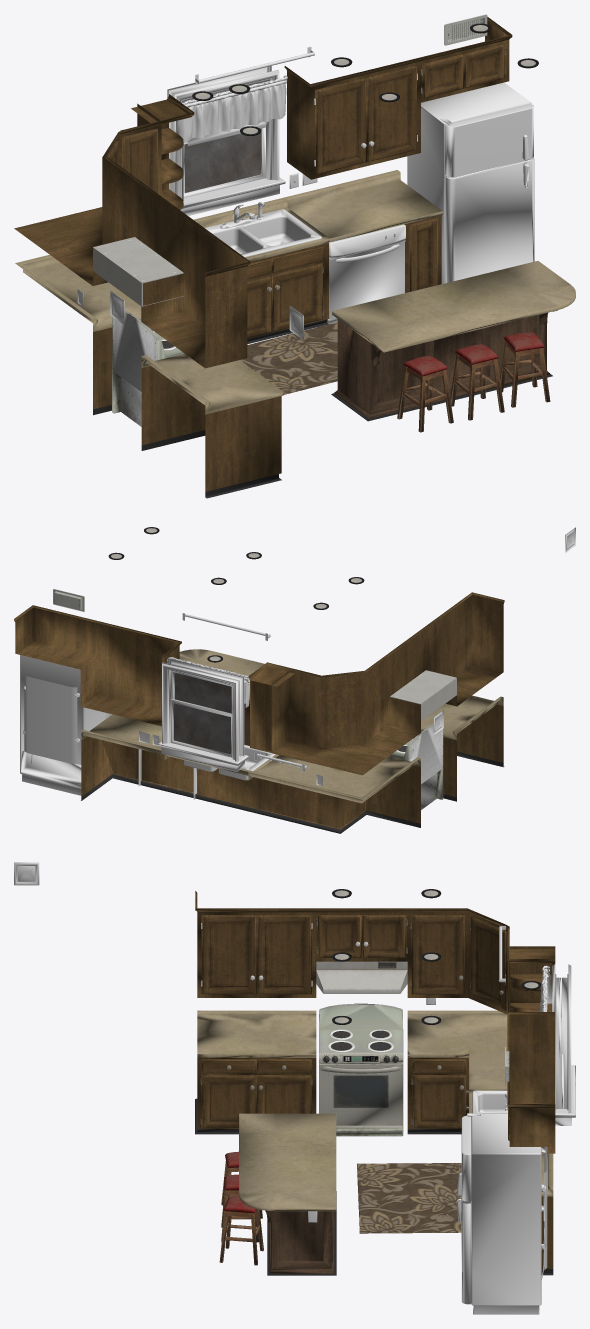
File: Kitchen.fbx
The picture shows the model from 3 angles, top to bottom: view 1: azimuth 30°, elevation 25°; view 2: azimuth 150°, elevation 25°; view 3: azimuth 270°, elevation 25°; orthographic projection. The views are drawn at different scales.
Parts seen in each view (by area): view 1: Kitchen-Wood-Furniture-Dark_0.1, Kitchen-Wood-Furniture-Dark_0.2, Kitchen-Wood-Furniture-Dark_0.1_0.1, Kitchen-Fridge-Exterior-Door_0.1, Kitchen-Windows_0.1, Kitchen-Sink_0.1, Kitchen-Prop-Bar-Stool_0.1, Kitchen-Fridge, Kitchen-Fridge-Exterior-Door_0.2, Kitchen-Floral-Rugs-Style-02_0.1, Kitchen-Windows_Small-Curtain_0.1, Kitchen-Stove_0.1 (+4 smaller); view 2: Kitchen-Wood-Furniture-Dark_0.1, Kitchen-Fridge, Kitchen-Windows_0.1, Kitchen-Stove_0.1, Kitchen-Rangehood_0.1, Kitchen-Wood-Furniture-Dark_0.2, Kitchen-Sink_0.1, Kitchen-Cell-Lamps_0.1, Kitchen-Cit-Ind-Metal-Beams-01-Painted-White_0.1, Ac-Vents-Panels_0.4, Kitchen-Stove-Tile-Deco_0.1; view 3: Kitchen-Wood-Furniture-Dark_0.1_0.1, Kitchen-Wood-Furniture-Dark_0.1, Kitchen-Wood-Furniture-Dark_0.2, Kitchen-Fridge, Kitchen-Floral-Rugs-Style-02_0.1, Kitchen-Stove_0.1, Kitchen-Stove_0.002, Kitchen-Rangehood_0.1, Kitchen-Windows_0.1, Kitchen-Prop-Bar-Stool_0.1, Kitchen-Fridge-Exterior-Door_0.1, Kitchen-Cell-Lamps_0.1 (+3 smaller).
Boxes of the visible parts, x1,y1,x2,y2 form: Kitchen-Wood-Furniture-Dark_0.1: [14, 17, 512, 498]; Kitchen-Wood-Furniture-Dark_0.2: [331, 261, 575, 421]; Kitchen-Wood-Furniture-Dark_0.1_0.1: [107, 44, 505, 337]; Kitchen-Fridge-Exterior-Door_0.1: [445, 157, 534, 282]; Kitchen-Windows_0.1: [167, 66, 285, 215]; Kitchen-Sink_0.1: [205, 202, 405, 324]; Kitchen-Prop-Bar-Stool_0.1: [397, 332, 550, 432]; Kitchen-Fridge: [407, 82, 531, 283]; Kitchen-Fridge-Exterior-Door_0.2: [445, 104, 533, 177]; Kitchen-Floral-Rugs-Style-02_0.1: [240, 322, 337, 394]; Kitchen-Windows_Small-Curtain_0.1: [175, 75, 287, 146]; Kitchen-Stove_0.1: [112, 310, 184, 426]; Kitchen-Wood-Furniture-Dark_0.1: [14, 592, 504, 833]; Kitchen-Fridge: [20, 655, 111, 795]; Kitchen-Windows_0.1: [157, 658, 248, 771]; Kitchen-Stove_0.1: [389, 724, 443, 809]; Kitchen-Rangehood_0.1: [390, 670, 456, 720]; Kitchen-Wood-Furniture-Dark_0.2: [179, 649, 264, 745]; Kitchen-Sink_0.1: [138, 745, 275, 799]; Kitchen-Cell-Lamps_0.1: [108, 527, 364, 662]; Kitchen-Cit-Ind-Metal-Beams-01-Painted-White_0.1: [182, 613, 307, 771]; Ac-Vents-Panels_0.4: [53, 589, 84, 611]; Kitchen-Stove-Tile-Deco_0.1: [433, 527, 575, 734]; Kitchen-Wood-Furniture-Dark_0.1_0.1: [200, 915, 509, 1140]; Kitchen-Wood-Furniture-Dark_0.1: [195, 891, 555, 1275]; Kitchen-Wood-Furniture-Dark_0.2: [239, 1113, 336, 1275]; Kitchen-Fridge: [467, 1113, 547, 1314]; Kitchen-Floral-Rugs-Style-02_0.1: [357, 1163, 461, 1233]; Kitchen-Stove_0.1: [319, 1003, 403, 1136]; Kitchen-Stove_0.002: [319, 1063, 402, 1125]; Kitchen-Rangehood_0.1: [316, 961, 407, 993]; Kitchen-Windows_0.1: [552, 964, 575, 1125]; Kitchen-Prop-Bar-Stool_0.1: [219, 1151, 263, 1265]; Kitchen-Fridge-Exterior-Door_0.1: [456, 1167, 471, 1304]; Kitchen-Cell-Lamps_0.1: [332, 889, 541, 1024].
Bounding box in the file's own units: 5.69 × 6.25 × 3.22.
